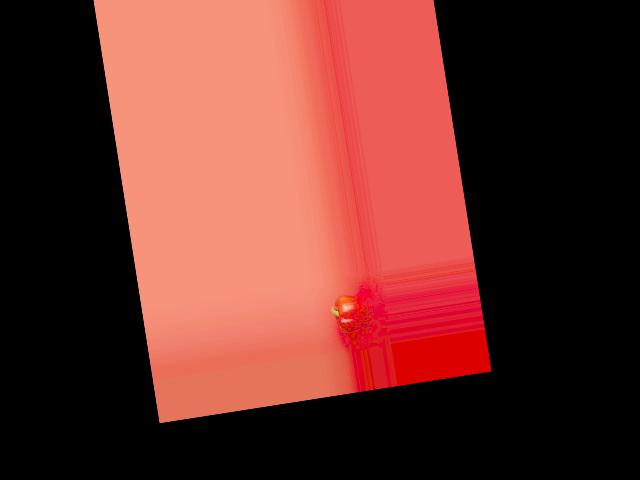bell_pepper: (328, 293, 375, 335)
